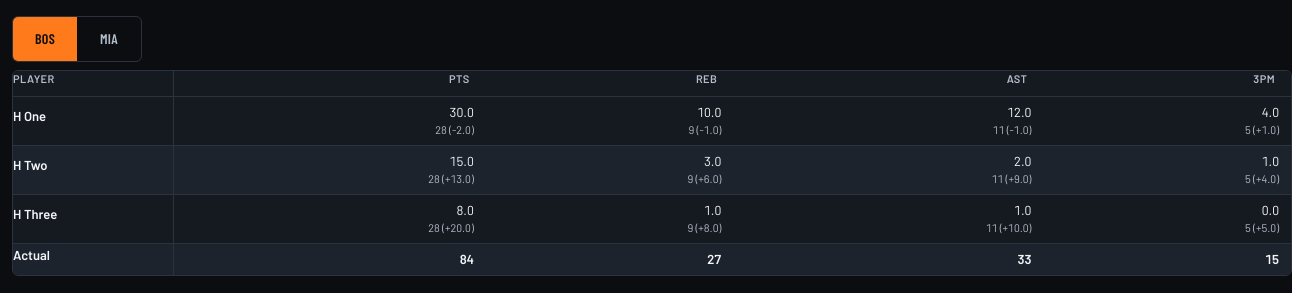
PlayerBoxScore › totals the selected team from its own players only
The width and height of the screenshot is (1292, 293).
Expected: the text "84" is shown, [173,243,486,275]
Click the button "MIA". click: (109, 39)
box: [77,17,141,61]
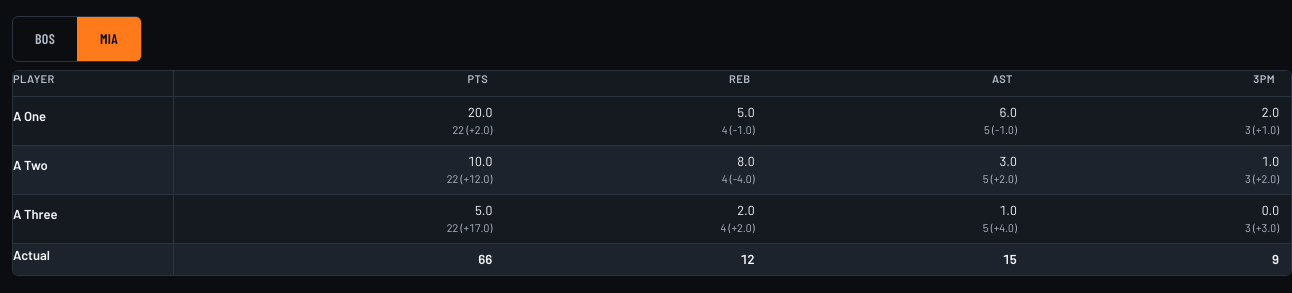
Result: the text "66" is shown at [173,243,504,275]
